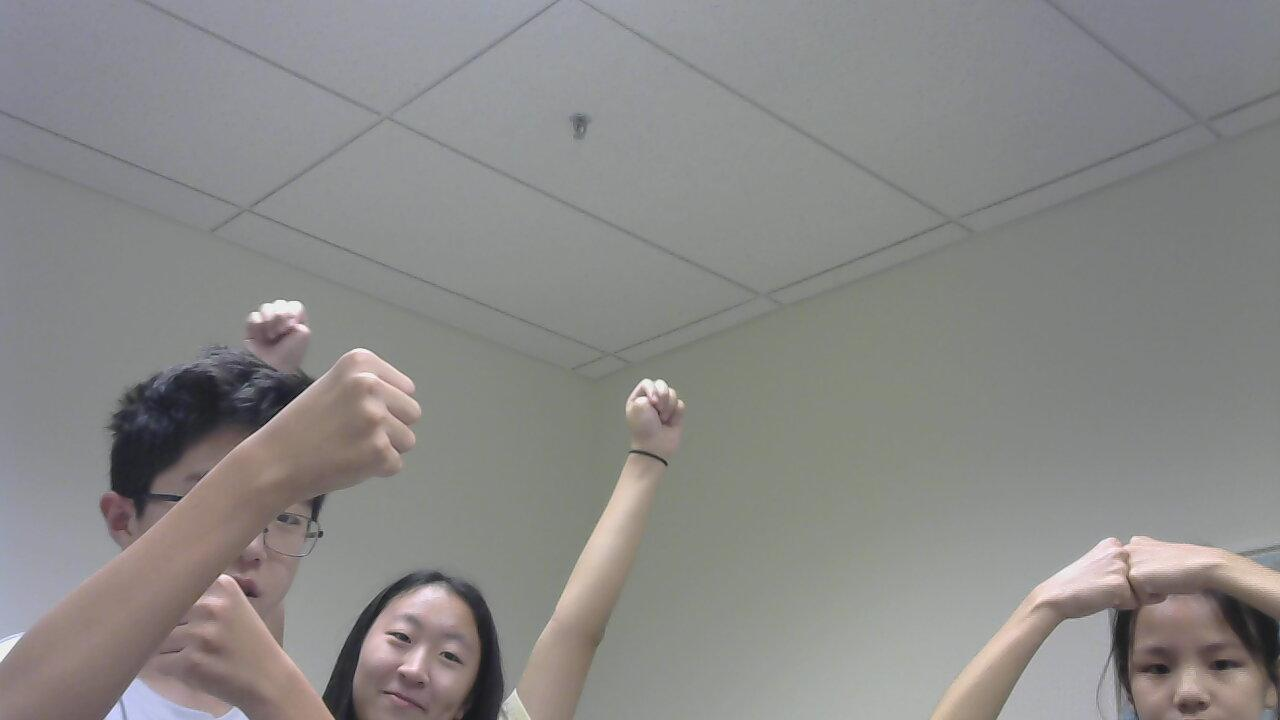fist: (231, 342, 466, 518), (993, 532, 1154, 621), (1124, 532, 1263, 623), (606, 357, 710, 478), (211, 252, 309, 380)
